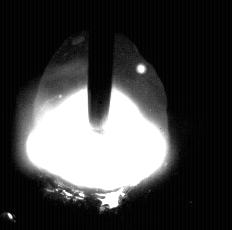arame: (89, 0, 111, 133)
poca: (26, 0, 169, 230)
